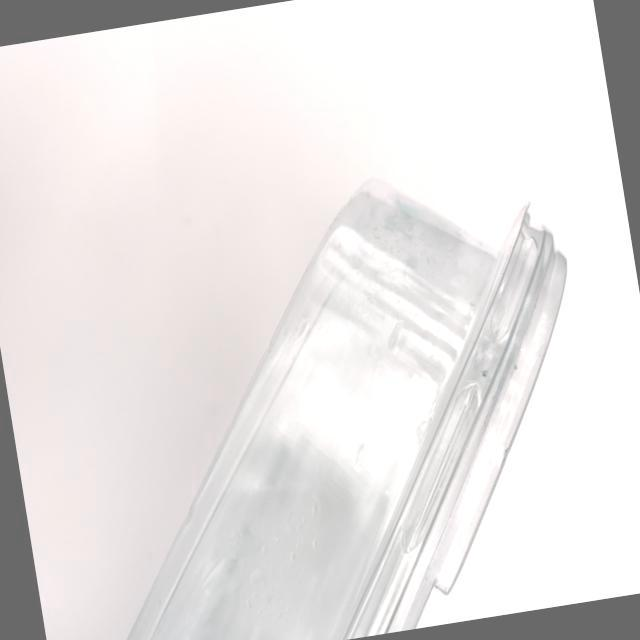plastic: (26, 136, 632, 640)
